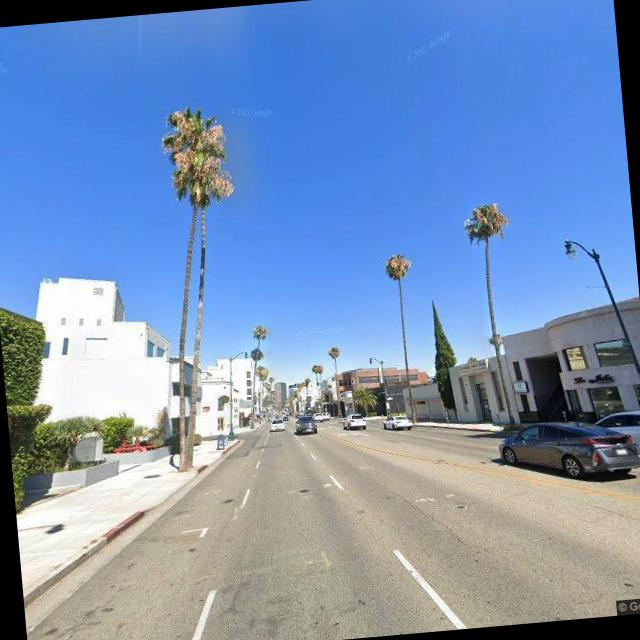pothole: (394, 483, 488, 558)
